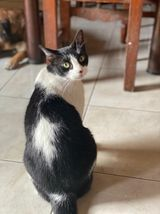cat: (20, 28, 96, 213)
